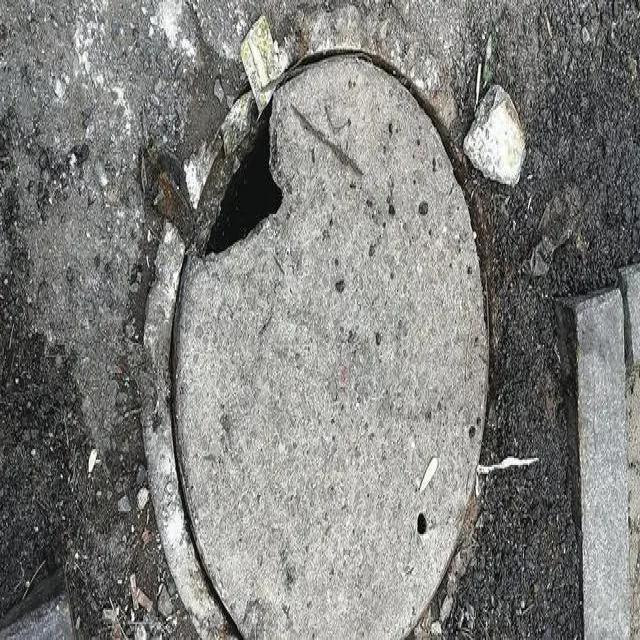manhole: (175, 18, 488, 640)
